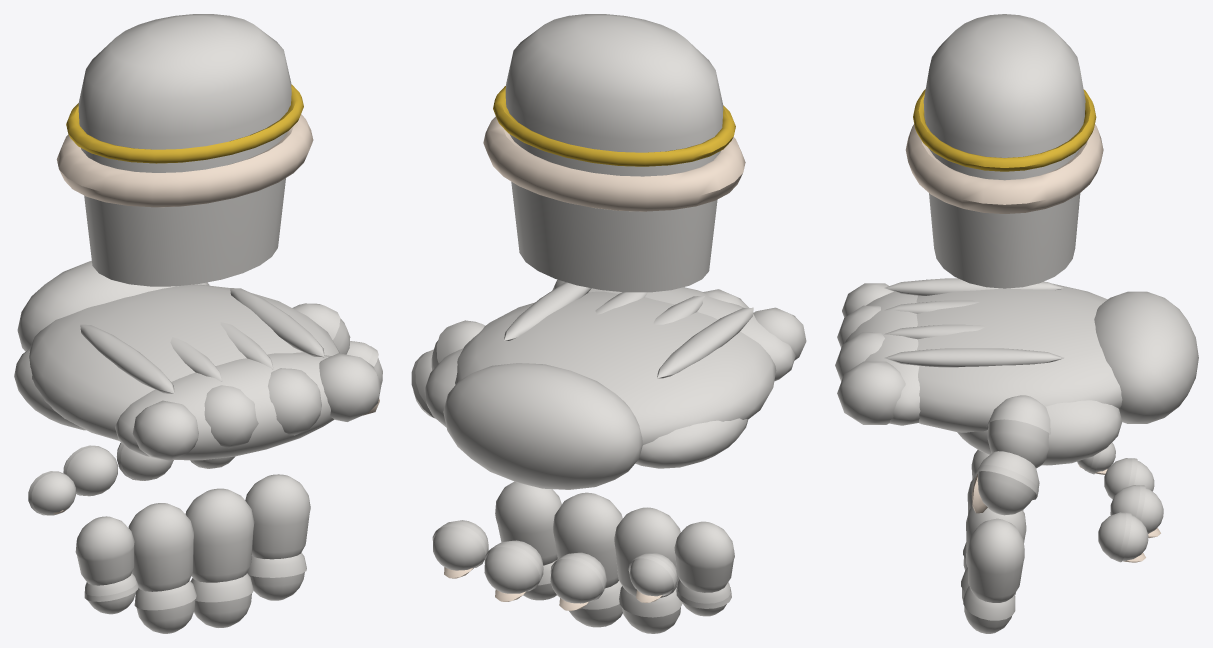
Rendered from Mano.fbx.
3 views of the same model, side by side, from view 1: azimuth 30°, elevation 25°; view 2: azimuth 150°, elevation 25°; view 3: azimuth 270°, elevation 25° (orthographic). The views are drawn at different scales.
Parts seen in each view (by area): view 1: Antebrazo, Palma, Dedo_Medio_1, Dedo_Anular_1, Dedo_Indice_1, Dedo_Menique_1, Dedo_Medio_2, Dedo_Anular_2, Dedo_Indice_2, Dedo_Anular_3, Dedo_Menique_3, Dedo_Menique_2 (+3 smaller); view 2: Palma, Antebrazo, Dedo_Medio_1, Dedo_Indice_1, Dedo_Menique_1, Dedo_Anular_1, Dedo_Medio_3, Dedo_Anular_3, Dedo_Indice_3, Dedo_Anular_2, Dedo_Menique_3, Dedo_Medio_2 (+4 smaller); view 3: Palma, Antebrazo, Dedo_Indice_1, Pulgar_2, Pulgar_1, Dedo_Indice_3, Dedo_Medio_3, Dedo_Indice_2, Dedo_Anular_3, Dedo_Medio_1, Dedo_Menique_3.
Part boxes in pixels (left/top/right/bottom): Antebrazo: left=56, top=14, right=313, bottom=286; Palma: left=14, top=261, right=381, bottom=460; Dedo_Medio_1: left=185, top=488, right=254, bottom=582; Dedo_Anular_1: left=128, top=503, right=193, bottom=591; Dedo_Indice_1: left=245, top=474, right=310, bottom=559; Dedo_Menique_1: left=75, top=516, right=134, bottom=585; Dedo_Medio_2: left=191, top=573, right=253, bottom=627; Dedo_Anular_2: left=134, top=580, right=196, bottom=633; Dedo_Indice_2: left=247, top=552, right=306, bottom=600; Dedo_Anular_3: left=63, top=445, right=118, bottom=496; Dedo_Menique_3: left=28, top=471, right=75, bottom=515; Dedo_Menique_2: left=84, top=573, right=138, bottom=614; Palma: left=424, top=279, right=806, bottom=489; Antebrazo: left=483, top=14, right=745, bottom=292; Dedo_Medio_1: left=553, top=492, right=622, bottom=588; Dedo_Indice_1: left=495, top=481, right=561, bottom=565; Dedo_Menique_1: left=674, top=521, right=734, bottom=592; Dedo_Anular_1: left=614, top=507, right=680, bottom=597; Dedo_Medio_3: left=484, top=540, right=543, bottom=601; Dedo_Anular_3: left=550, top=552, right=606, bottom=610; Dedo_Indice_3: left=432, top=520, right=488, bottom=578; Dedo_Anular_2: left=619, top=586, right=682, bottom=633; Dedo_Menique_3: left=628, top=553, right=677, bottom=602; Dedo_Medio_2: left=569, top=580, right=622, bottom=627; Palma: left=835, top=278, right=1198, bottom=465; Antebrazo: left=905, top=14, right=1103, bottom=288; Dedo_Indice_1: left=967, top=518, right=1024, bottom=602; Pulgar_2: left=971, top=451, right=1039, bottom=515; Pulgar_1: left=986, top=395, right=1050, bottom=468; Dedo_Indice_3: left=1098, top=512, right=1148, bottom=562; Dedo_Medio_3: left=1110, top=485, right=1163, bottom=538; Dedo_Indice_2: left=963, top=586, right=1015, bottom=633; Dedo_Anular_3: left=1104, top=458, right=1154, bottom=499; Dedo_Medio_1: left=966, top=506, right=1026, bottom=567; Dedo_Menique_3: left=1077, top=442, right=1115, bottom=474.
Bounding box in the file's own units: 0.6049 × 1.05 × 0.6031.
